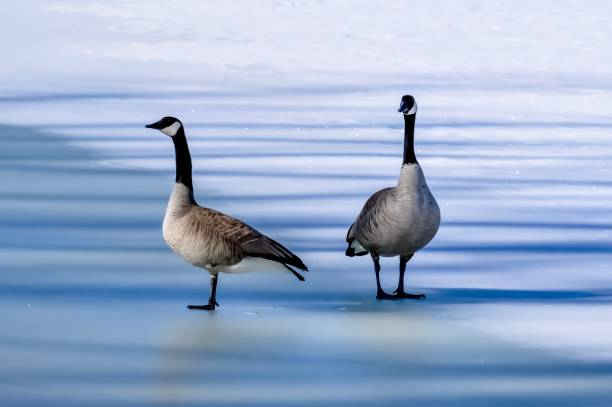goose: (141, 114, 313, 318), (338, 92, 444, 303)
